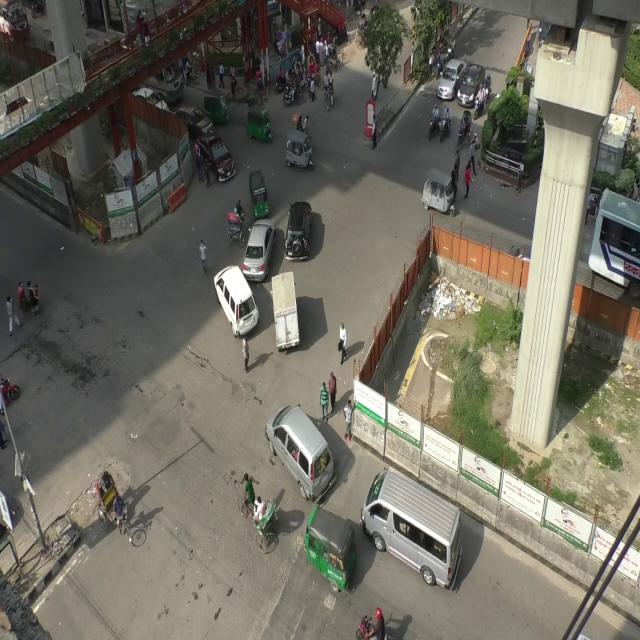cng: (304, 498, 358, 591), (422, 164, 457, 217), (243, 103, 274, 141), (285, 130, 312, 172), (245, 169, 267, 219), (201, 89, 229, 122)
rikshaw: (234, 470, 282, 553), (93, 473, 135, 547), (222, 201, 246, 247), (456, 110, 474, 154), (284, 65, 302, 97), (306, 52, 323, 85), (328, 43, 348, 71), (357, 19, 373, 45), (294, 63, 307, 90)
